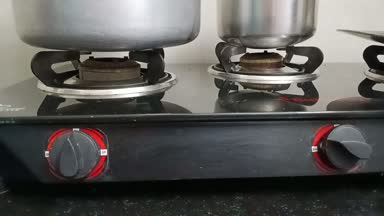noflame_gason: (23, 42, 173, 195), (220, 39, 378, 178)
